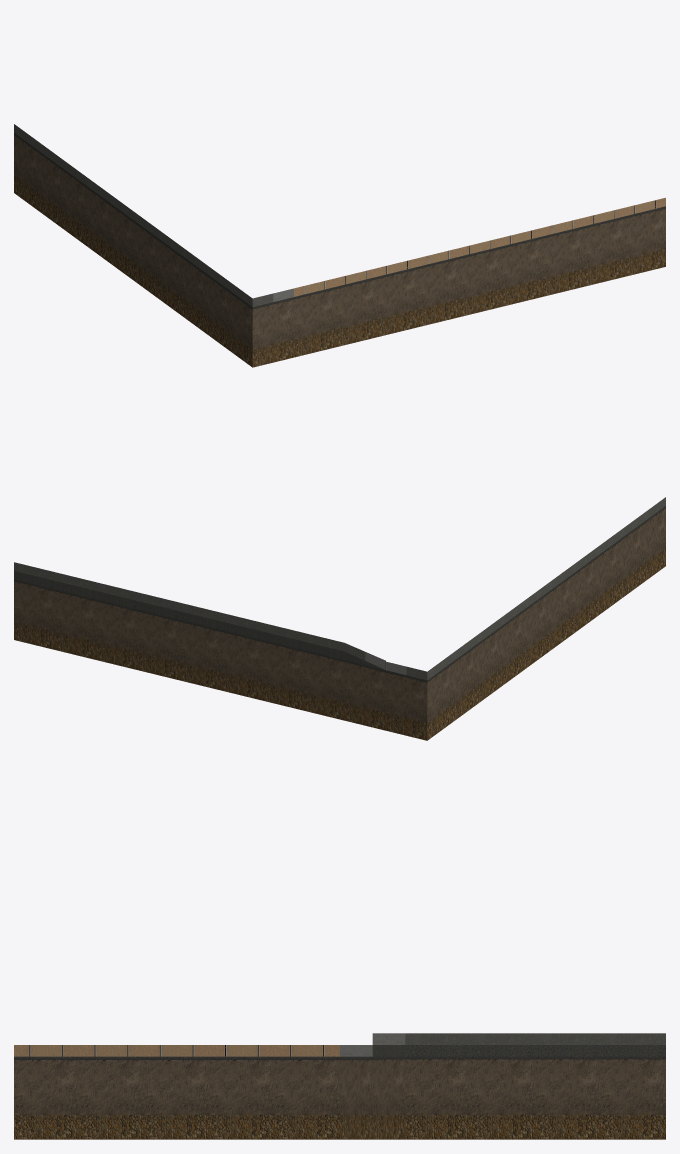
The picture shows the model from 3 angles, top to bottom: view 1: azimuth 30°, elevation 25°; view 2: azimuth 150°, elevation 25°; view 3: azimuth 270°, elevation 25°; orthographic projection. The views are drawn at different scales.
Visible parts, largest first — view 1: Joint_0_Object_3, Joint_0_Object_2, Joint_0_Object_0; view 2: Joint_0_Object_3, Joint_0_Object_0; view 3: Joint_0_Object_3, Joint_0_Object_2, Joint_0_Object_0, Joint_0_Object_1.
Part boxes in pixels (x1,y1,x2,y2): Joint_0_Object_3: (14,132,665,367); Joint_0_Object_2: (294,197,665,296); Joint_0_Object_0: (14,124,273,306); Joint_0_Object_3: (14,506,665,740); Joint_0_Object_0: (14,497,665,680); Joint_0_Object_3: (14,1045,665,1139); Joint_0_Object_2: (14,1045,339,1056); Joint_0_Object_0: (405,1033,665,1044); Joint_0_Object_1: (340,1033,405,1056).
Bounding box in the file's own units: 10000 × 1800 × 10000.
4 materials, 4 textured.
